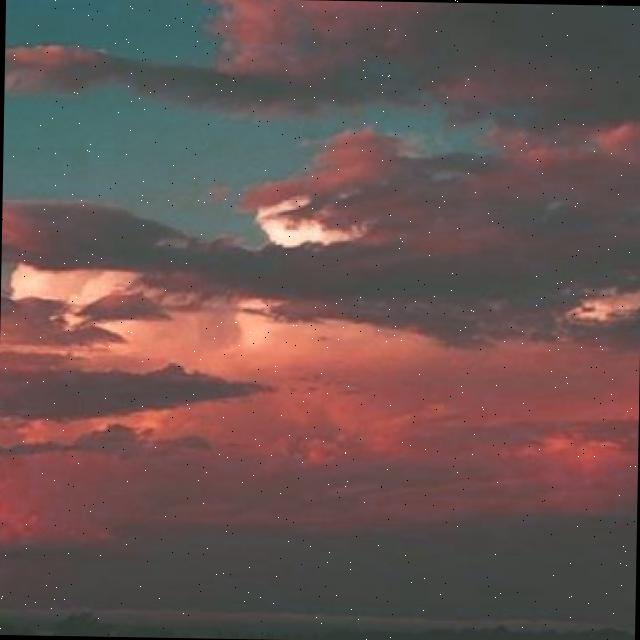Cb: (1, 1, 626, 501)
